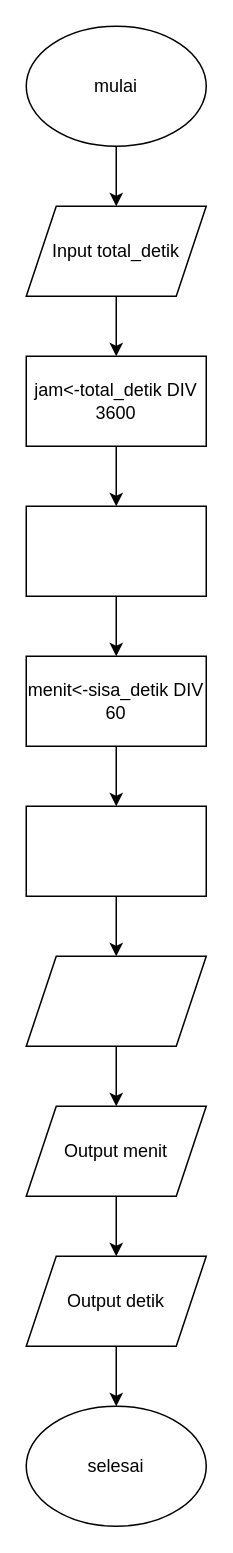
Image size: 233x1553. Some labels were removed from this diagram. Here are the shapes that lost their labels. From the top down, the box of each, then its label:
(25, 505, 206, 596): sisa_detik<-total_detik MOD 3600
(25, 805, 206, 896): detik<-sisa_detik MOD 60
(25, 955, 206, 1046): Output jam
